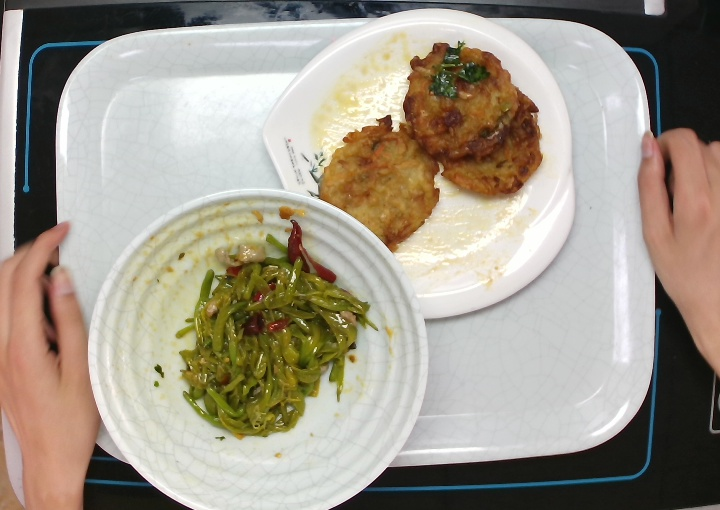JYsf-Da_Tang_Wan: (86, 187, 431, 510)
JYsf-Mian_Pan: (258, 4, 578, 322)
